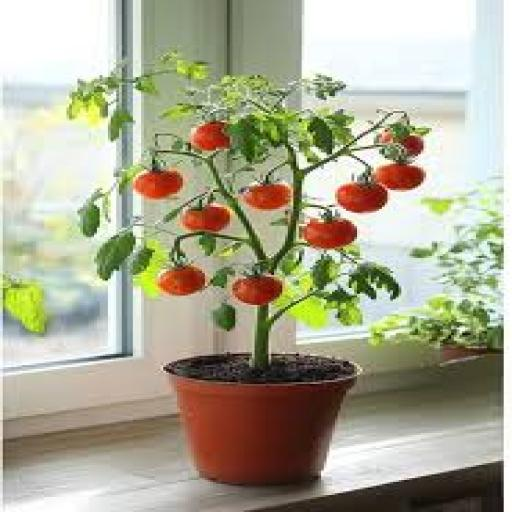tomato: (302, 219, 357, 248), (335, 183, 387, 212), (133, 170, 182, 199), (158, 266, 207, 295), (233, 275, 282, 304), (180, 204, 232, 231), (241, 183, 293, 210), (374, 164, 426, 190), (380, 130, 423, 156), (191, 121, 229, 150)
